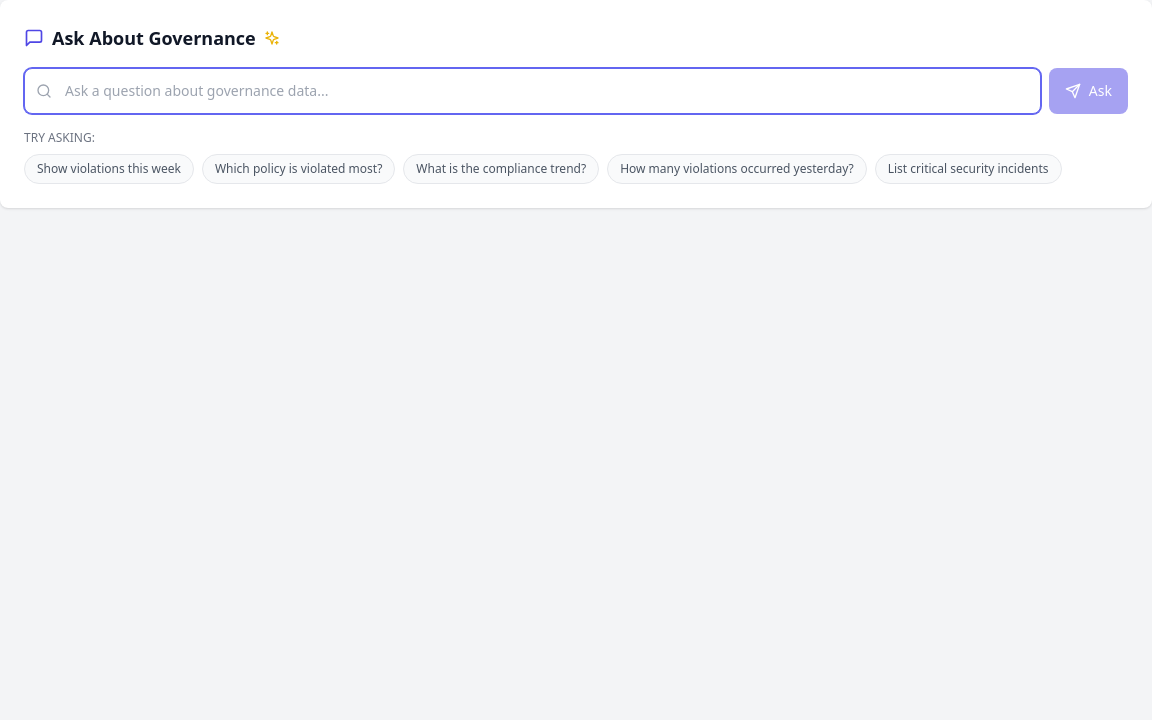
Test case: QueryInterface › Sample Queries › submits sample query when clicked
The width and height of the screenshot is (1152, 720).
Click the button "Show violations this week". click: [109, 169]
box: [24, 154, 194, 184]
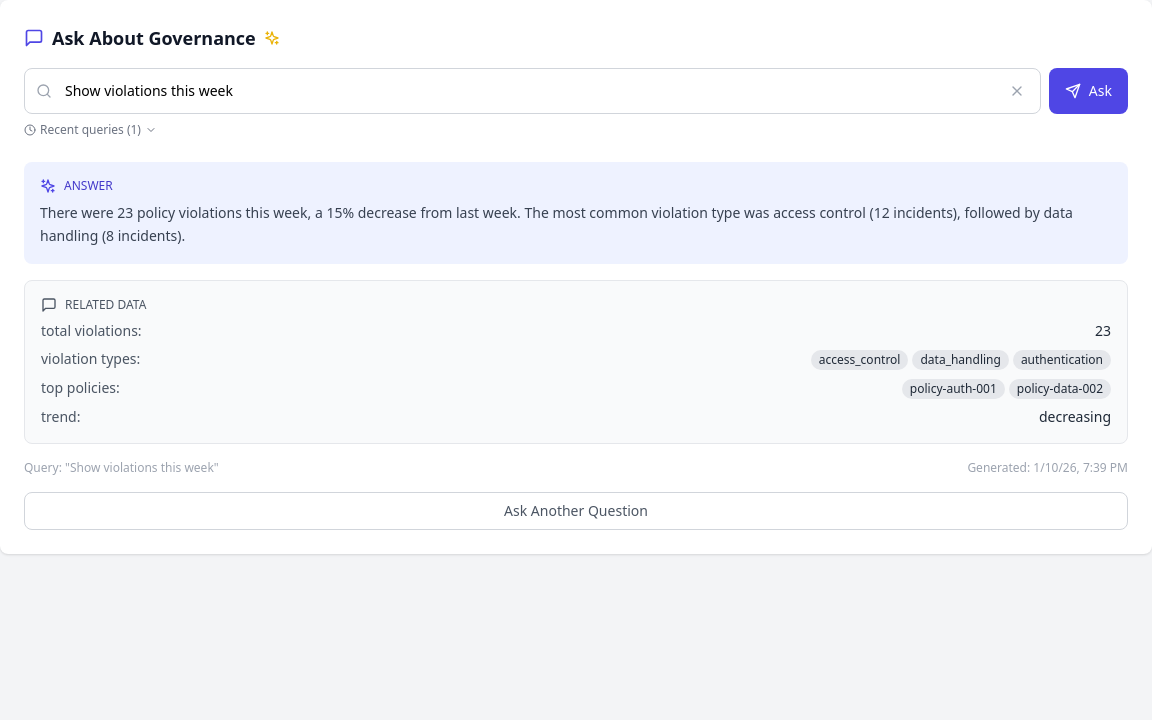
Check: the text "Answer" is shown, box [64, 178, 113, 194]
